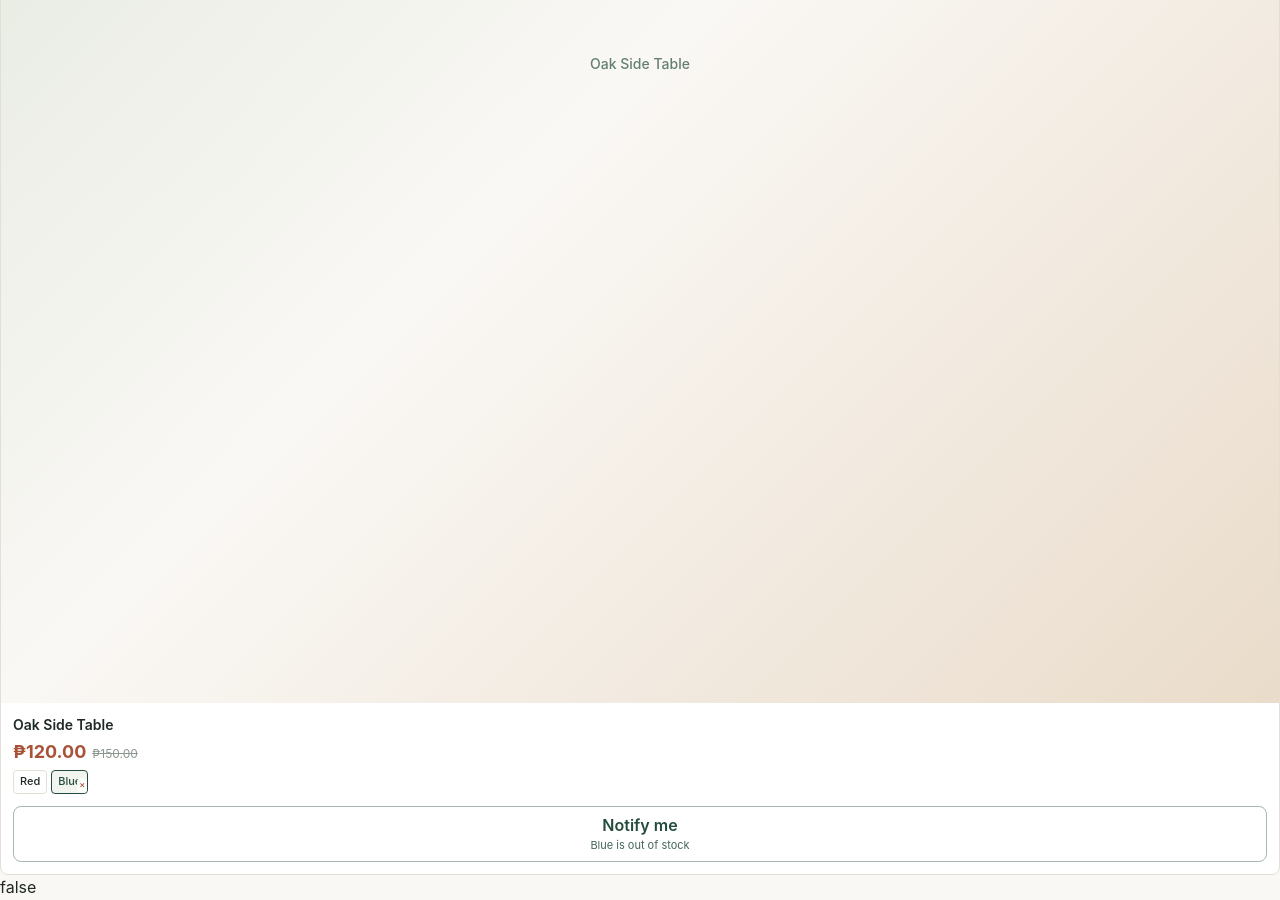
ProductCard inline purchase › opens an alert for the exact out-of-stock SKU and keeps the item in the cart
(page scrolled)
Click the button with test id "card-notify": (640, 834) [13,806,1267,862]
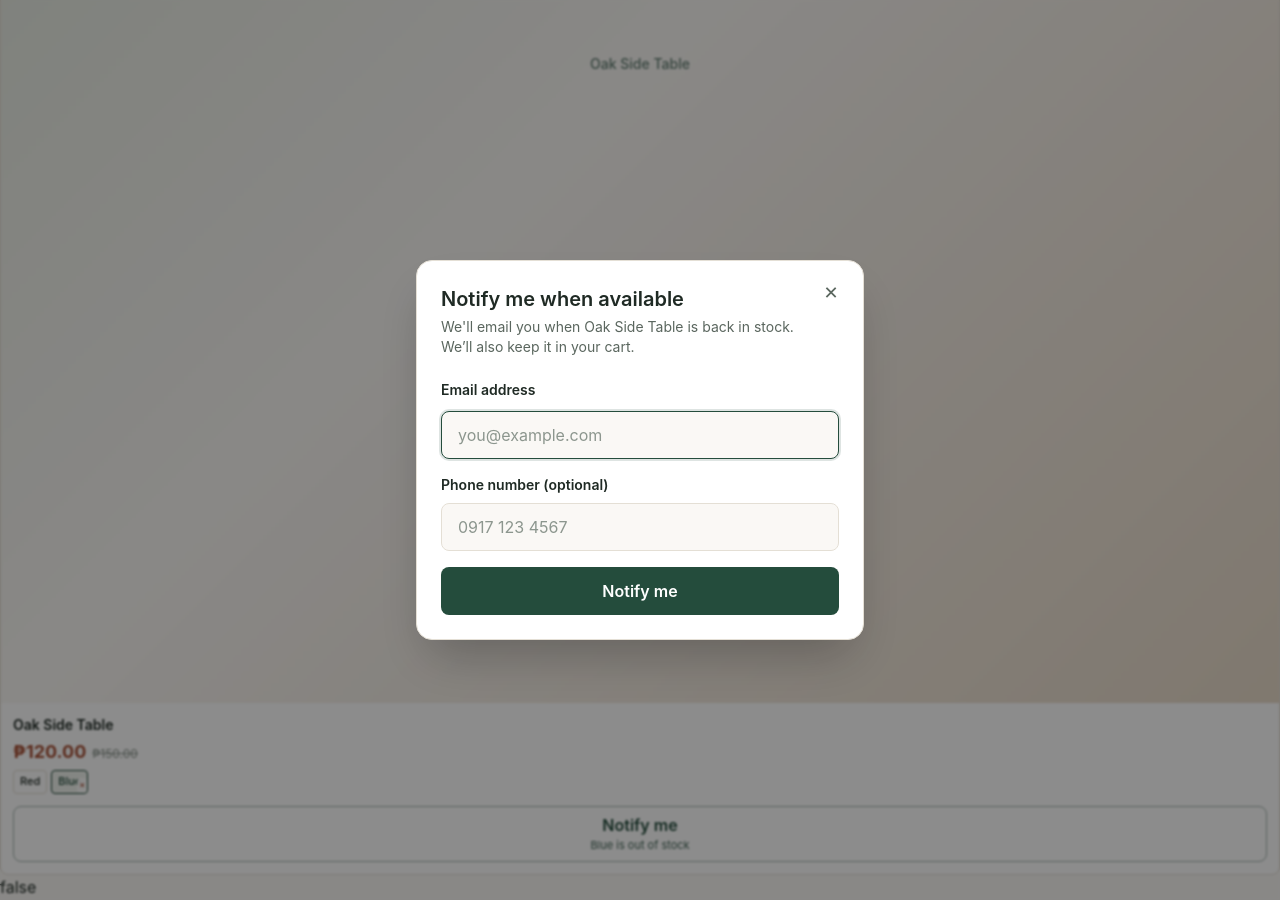
In the field labelled "Email address": (640, 435) [441,411,839,459], type "shopper@example.com"
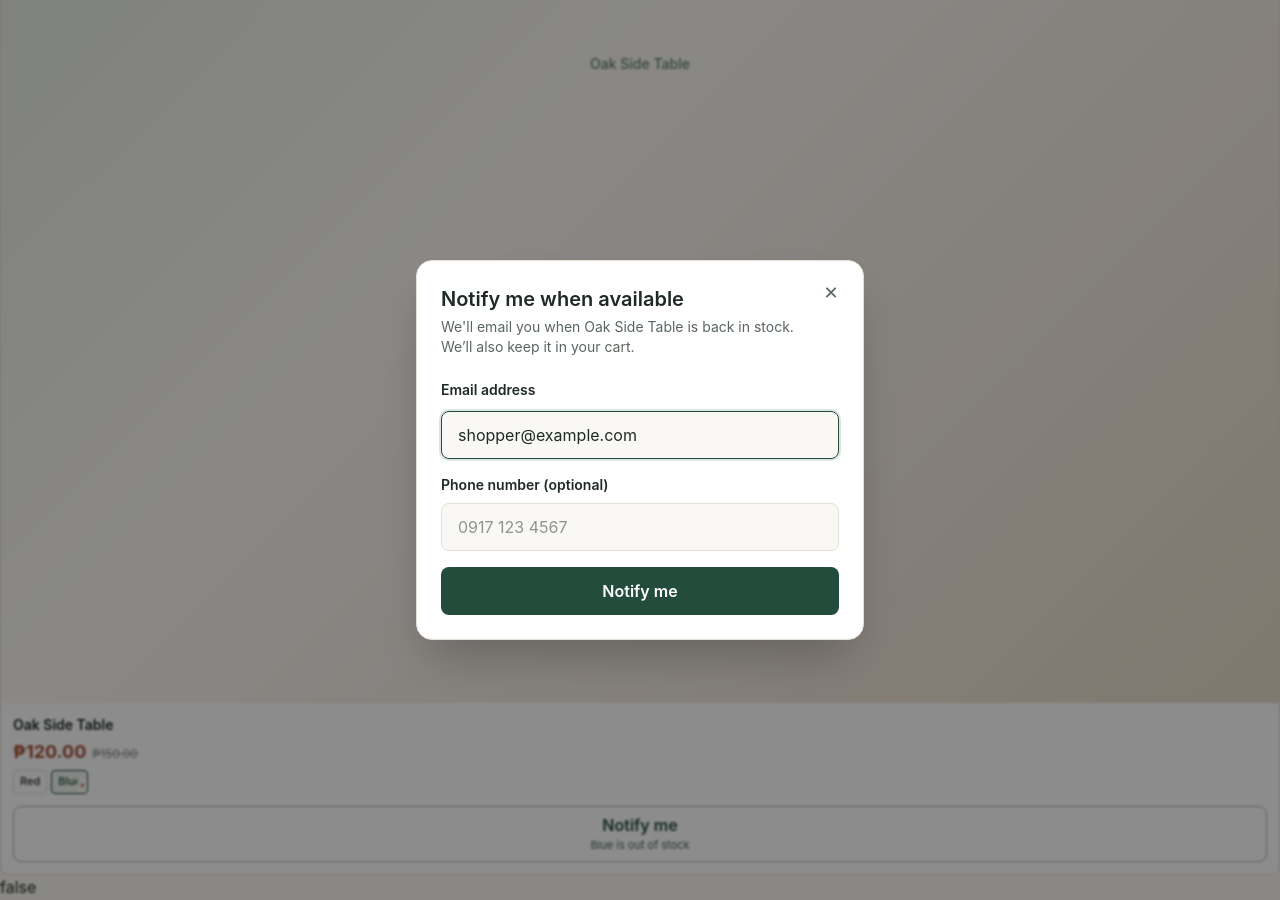
Click the button "Notify me": (640, 591) [441,567,839,615]
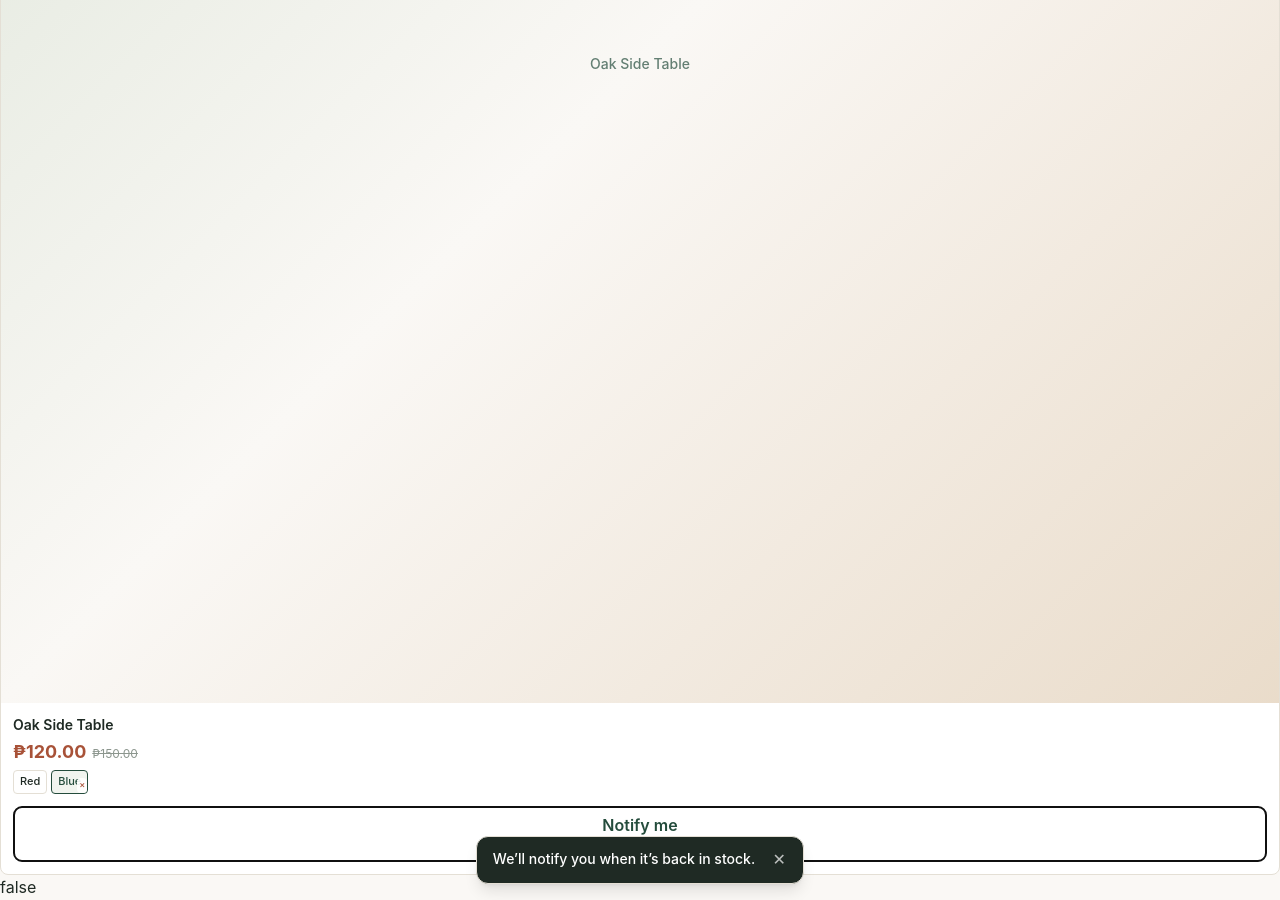
Expected: the message with test id "storefront-toast" shows "We’ll notify you when it’s back in stock.", [493,850,755,867]
